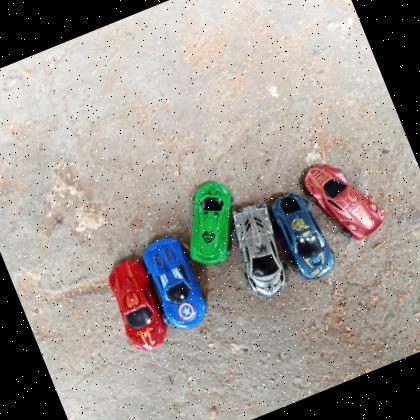Car: (297, 146, 392, 252), (165, 172, 255, 274), (220, 196, 300, 306), (137, 230, 216, 338), (100, 254, 176, 358), (266, 183, 342, 287)
